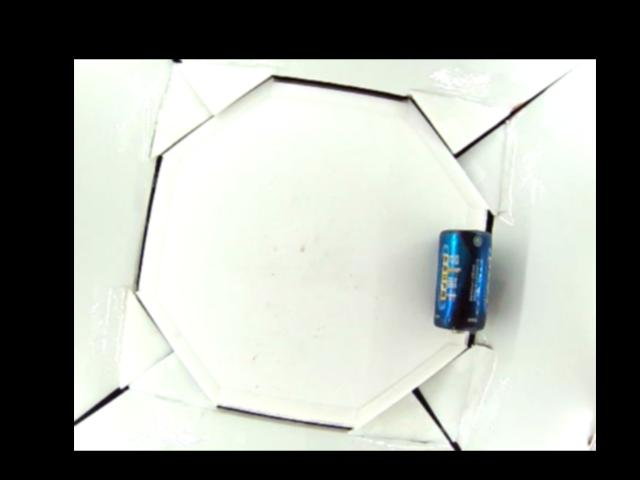Battery: (434, 228, 489, 334)
